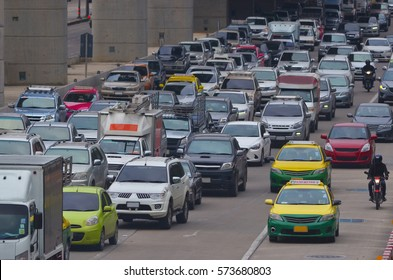bike: (368, 157, 386, 211), (361, 60, 375, 93)
car: (109, 157, 188, 230), (1, 155, 58, 256), (268, 179, 339, 244), (60, 186, 118, 252), (187, 135, 247, 198), (271, 142, 331, 193), (96, 129, 152, 178), (48, 143, 106, 190), (277, 77, 322, 133), (324, 123, 376, 168), (224, 122, 272, 167), (262, 98, 308, 143), (16, 87, 62, 126), (353, 103, 393, 142), (222, 74, 261, 113), (156, 117, 194, 154), (101, 71, 144, 101), (30, 123, 74, 151), (201, 98, 237, 132), (317, 57, 353, 90), (1, 133, 41, 162), (214, 89, 251, 119), (164, 81, 196, 114), (277, 50, 311, 79), (323, 74, 353, 106), (251, 67, 281, 99), (63, 87, 95, 116), (158, 46, 189, 73), (192, 68, 220, 96), (347, 53, 373, 83), (362, 38, 391, 64), (180, 41, 207, 68), (270, 27, 296, 53), (319, 33, 345, 57), (246, 15, 269, 39), (378, 69, 393, 104), (356, 15, 377, 37), (371, 3, 391, 26), (216, 30, 240, 48), (298, 26, 315, 50), (343, 21, 359, 44), (325, 11, 341, 32)
